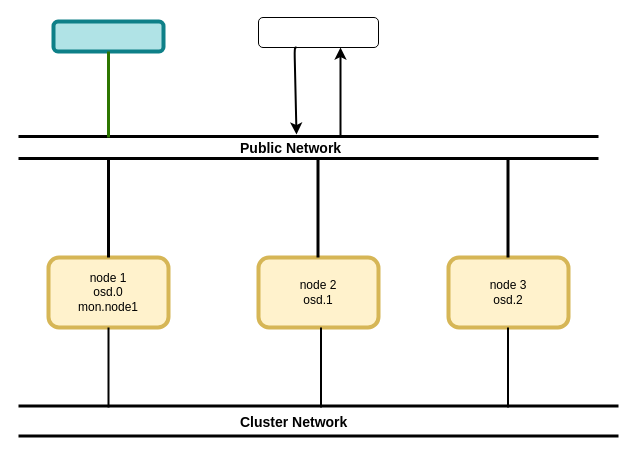
The diagram is 637 pixels wide and 455 high, and some of its shapes have lost their labels. Each missing label, with the centre of its shape:
"CEPH CLIENT" belongs at (318,32).
"Deploy node" belongs at (108,36).
